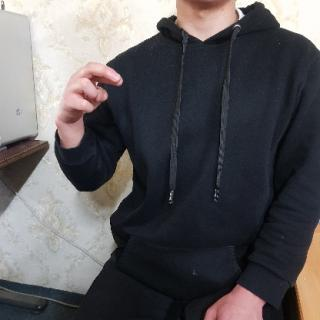ZAY: (53, 60, 130, 132)
